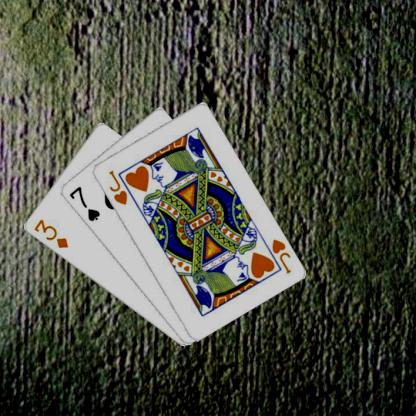3D: (31, 216, 70, 250)
7S: (66, 184, 101, 223)
JH: (269, 236, 292, 275), (106, 168, 128, 206)
